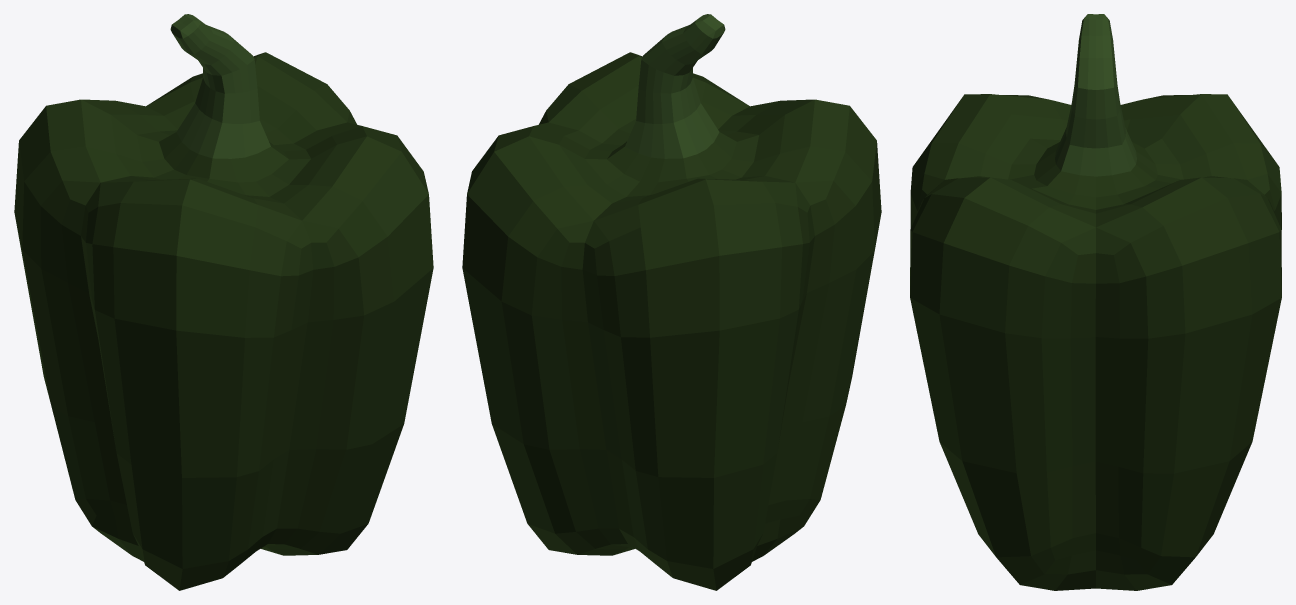
The model's file is Pepper_Green.obj.
3 renders of one model, left to right at view 1: azimuth 30°, elevation 25°; view 2: azimuth 150°, elevation 25°; view 3: azimuth 270°, elevation 25°, orthographic. The views are drawn at different scales.
Visible parts, largest first — view 1: Pepper_Green_Cylinder.030; view 2: Pepper_Green_Cylinder.030; view 3: Pepper_Green_Cylinder.030.
Boxes of the visible parts, bbox=[...] form: Pepper_Green_Cylinder.030: bbox=[14, 14, 433, 590]; Pepper_Green_Cylinder.030: bbox=[462, 14, 881, 590]; Pepper_Green_Cylinder.030: bbox=[910, 14, 1281, 590].
Bounding box in the file's own units: 0.674 × 1.12 × 0.7118.
